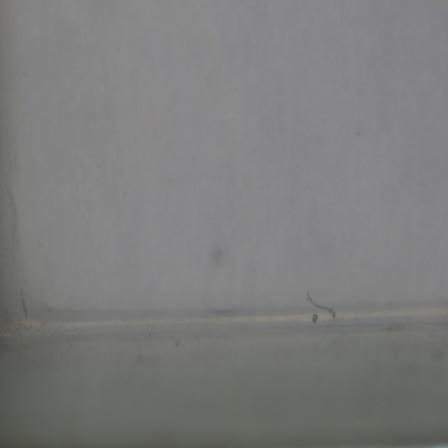Jentik-Nyamuk: (306, 287, 339, 323)
